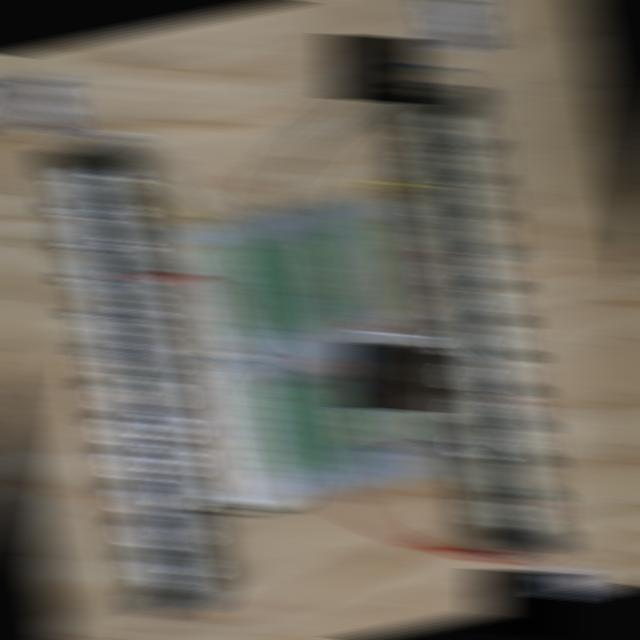Flathead_Block: (397, 82, 568, 563)
Phillips_Block: (41, 139, 218, 621)
Terminal_1: (332, 215, 390, 320), (358, 340, 415, 446)
Terminal_2: (274, 230, 332, 331), (274, 377, 331, 478), (302, 371, 358, 472), (218, 243, 274, 344), (246, 237, 302, 336)
